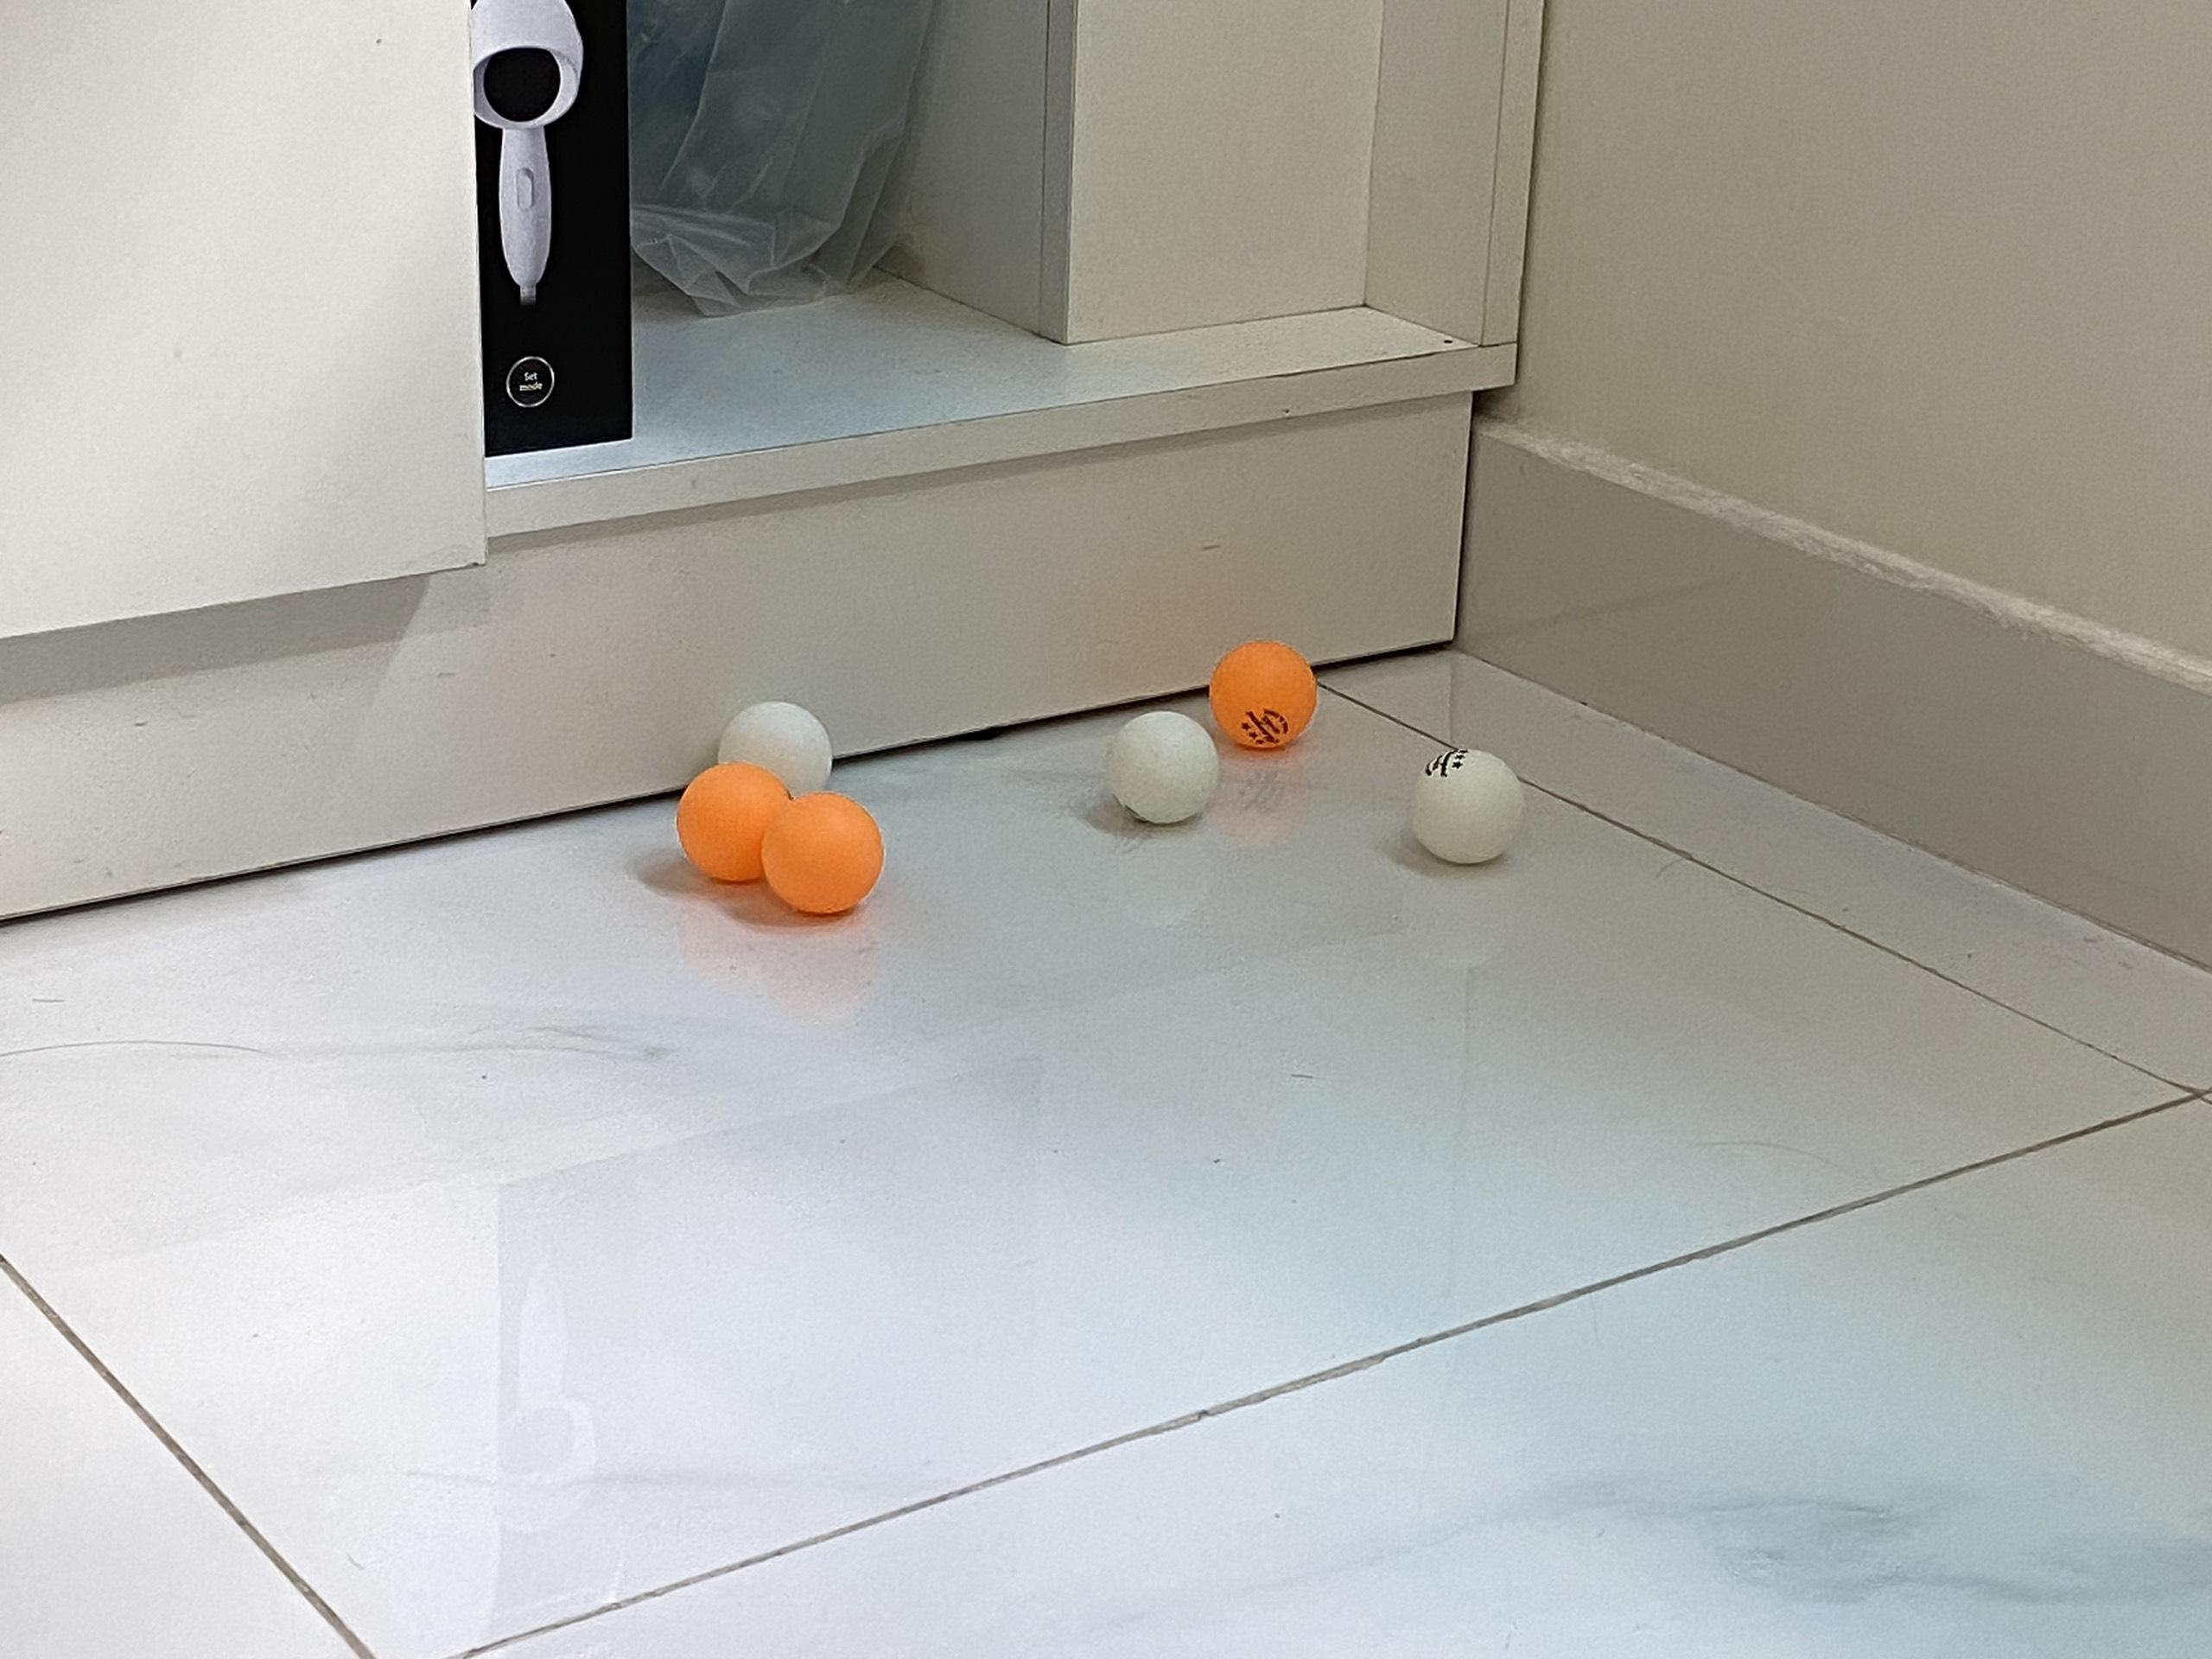oball: (766, 791, 888, 917), (685, 763, 799, 884), (1212, 638, 1318, 746)
